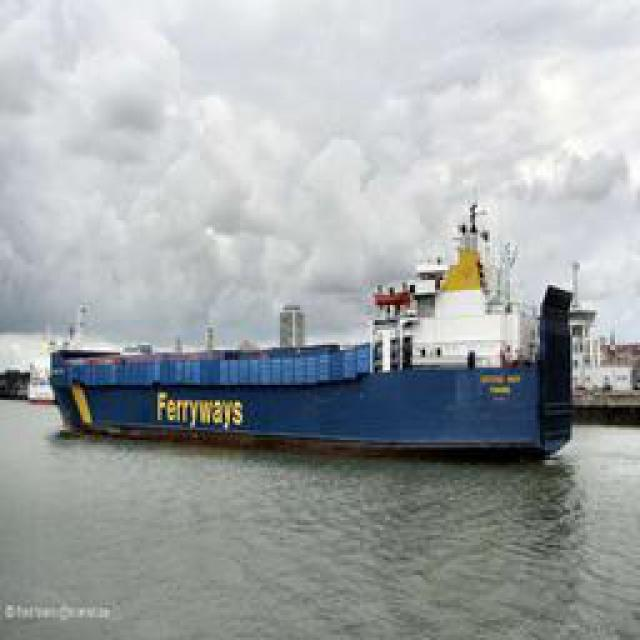Ship: (56, 241, 579, 459)
